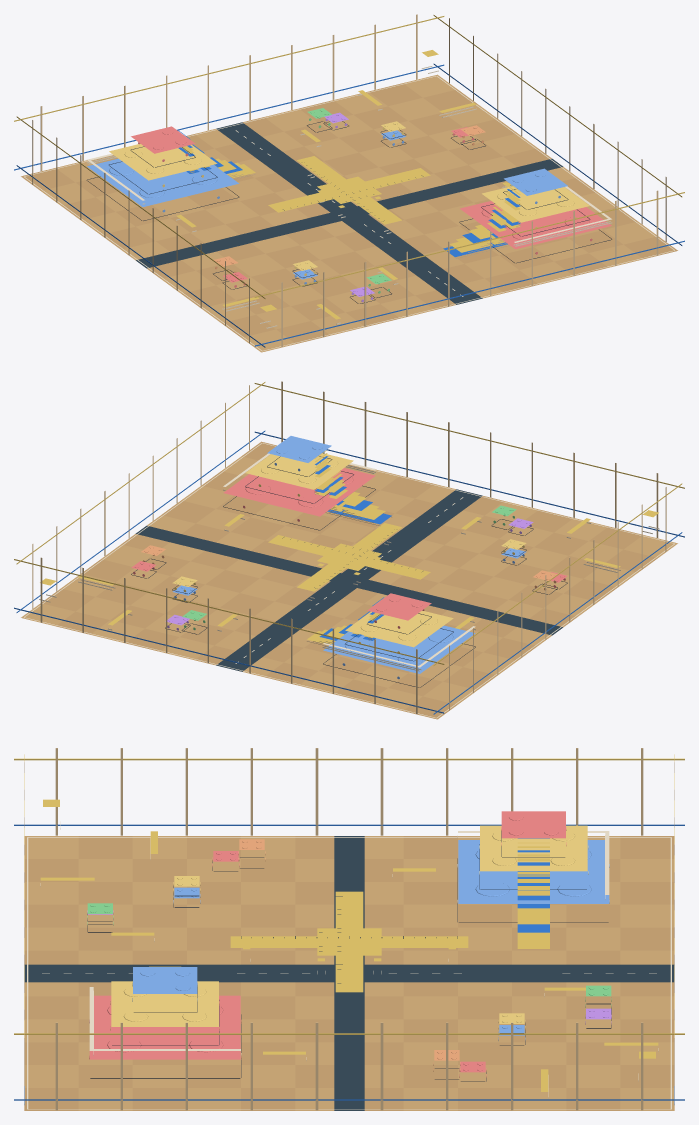
The model's file is fps_arena_towers.glb.
3 renders of one model, top to bottom at view 1: azimuth 30°, elevation 25°; view 2: azimuth 150°, elevation 25°; view 3: azimuth 270°, elevation 25°, orthographic. The views are drawn at different scales.
Parts seen in each view (by area): view 1: Playmat floor, detail_Playmat woven squares, detail_Playmat ink roads, detail_Ruler yellow, detail_Paper tape.001, detail_Block top 4da6ff, detail_Block top ffd84d, detail_Block top ff5d5d, detail_Blueberry, detail_Ivory printed marks, detail_Ink navy.001; view 2: Playmat floor, detail_Playmat woven squares, detail_Playmat ink roads, detail_Ruler yellow, detail_Paper tape.001, detail_Block top ffd84d, detail_Block top 4da6ff, detail_Block top ff5d5d, detail_Blueberry, detail_Ivory printed marks, detail_Ink navy.001; view 3: detail_Playmat woven squares, Playmat floor, detail_Playmat ink roads, detail_Ruler yellow, detail_Block top ffd84d, detail_Block top ff5d5d, detail_Block top 4da6ff, detail_Paper tape.001, detail_Blueberry, detail_Ivory printed marks, detail_Ink navy.001, detail_Block top 5ee07a (+1 smaller).
Part boxes in pixels (bbox=[...]): Playmat floor: bbox=[41, 74, 656, 352]; detail_Playmat woven squares: bbox=[21, 83, 677, 343]; detail_Playmat ink roads: bbox=[136, 122, 563, 304]; detail_Ruler yellow: bbox=[14, 15, 684, 319]; detail_Paper tape.001: bbox=[32, 14, 666, 347]; detail_Block top 4da6ff: bbox=[87, 130, 567, 284]; detail_Block top ffd84d: bbox=[109, 121, 589, 275]; detail_Block top ff5d5d: bbox=[131, 126, 611, 287]; detail_Blueberry: bbox=[14, 63, 684, 347]; detail_Ivory printed marks: bbox=[24, 66, 674, 351]; detail_Ink navy.001: bbox=[86, 121, 611, 303]; Playmat floor: bbox=[21, 456, 677, 710]; detail_Playmat woven squares: bbox=[42, 441, 657, 719]; detail_Playmat ink roads: bbox=[135, 489, 562, 671]; detail_Ruler yellow: bbox=[14, 382, 684, 665]; detail_Paper tape.001: bbox=[32, 381, 666, 714]; detail_Block top ffd84d: bbox=[172, 453, 526, 652]; detail_Block top 4da6ff: bbox=[172, 436, 526, 679]; detail_Block top ff5d5d: bbox=[131, 468, 567, 628]; detail_Blueberry: bbox=[14, 430, 684, 714]; detail_Ivory printed marks: bbox=[24, 443, 674, 718]; detail_Ink navy.001: bbox=[131, 456, 567, 687]; detail_Playmat woven squares: bbox=[24, 836, 674, 1110]; Playmat floor: bbox=[24, 836, 674, 1110]; detail_Playmat ink roads: bbox=[24, 836, 674, 1110]; detail_Ruler yellow: bbox=[14, 754, 684, 1091]; detail_Block top ffd84d: bbox=[110, 825, 588, 1030]; detail_Block top ff5d5d: bbox=[89, 811, 566, 1077]; detail_Block top 4da6ff: bbox=[132, 840, 609, 1040]; detail_Paper tape.001: bbox=[24, 748, 674, 1110]; detail_Blueberry: bbox=[14, 824, 684, 1104]; detail_Ivory printed marks: bbox=[27, 821, 671, 1109]; detail_Ink navy.001: bbox=[87, 831, 611, 1081]; detail_Block top 5ee07a: bbox=[87, 903, 611, 1007].
Size of what is drawn, in the model's own units: 61.92 by 8.96 by 61.92.
